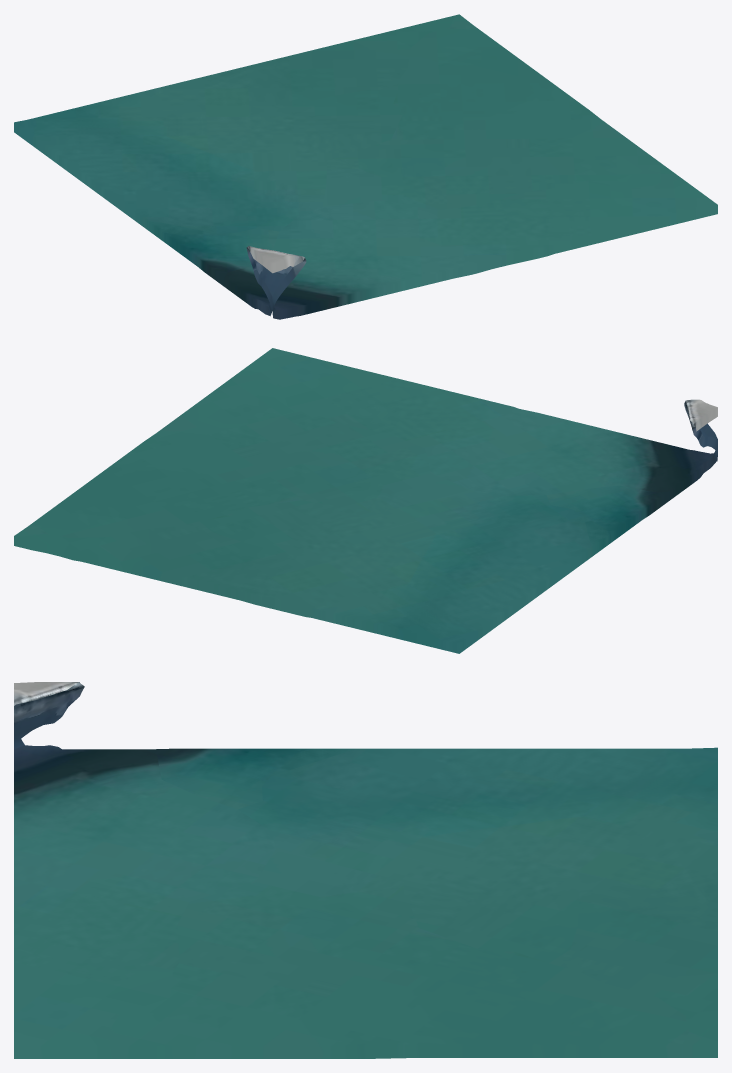
Rendered from z20-167789-405216-h0-yup-uvflip-v3-world.glb.
The picture shows the model from 3 angles, top to bottom: view 1: azimuth 30°, elevation 25°; view 2: azimuth 150°, elevation 25°; view 3: azimuth 270°, elevation 25°; orthographic projection. The views are drawn at different scales.
Size of the model in its own units: 30.16 by 4.04 by 30.32.
Materials: 1 (1 with a texture image).
